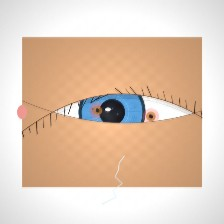foreign_body_visible: (86, 101, 109, 119)
